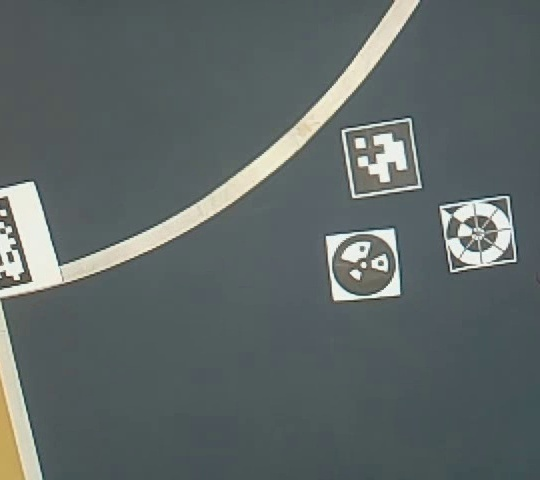landing-zone: (438, 191, 524, 275)
